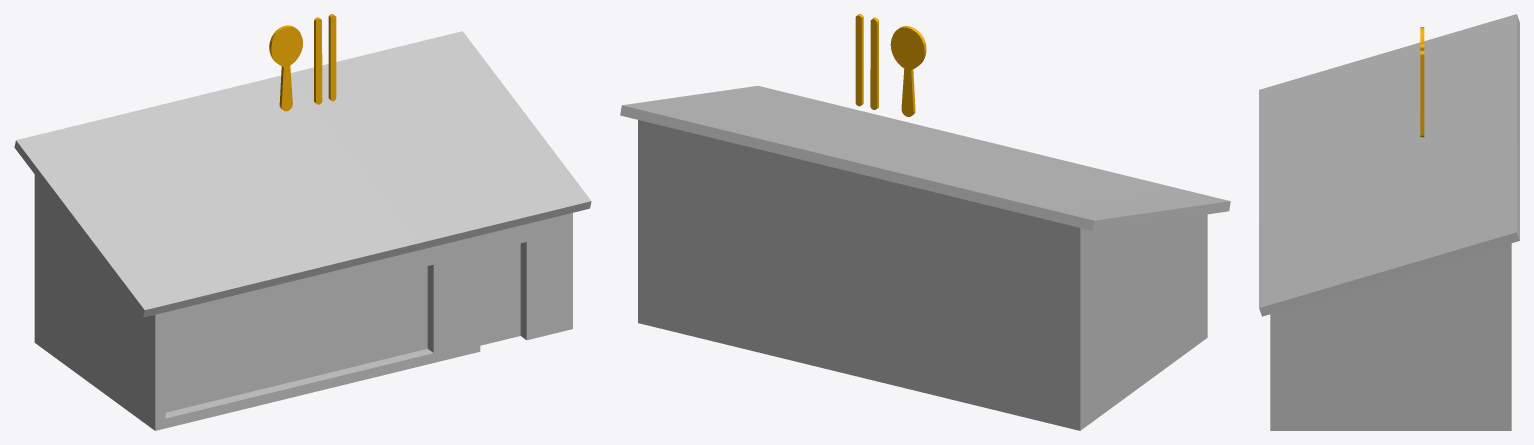
Rendered from 中餐厅.gltf.
3 views of the same model, side by side, from view 1: azimuth 30°, elevation 25°; view 2: azimuth 150°, elevation 25°; view 3: azimuth 270°, elevation 25° (orthographic). The views are drawn at different scales.
Parts seen in each view (by area): view 1: node_CornerShop_-1138, node_Mesh1_-1304; view 2: node_CornerShop_-1138, node_Mesh1_-1304; view 3: node_CornerShop_-1138, node_Mesh1_-1304.
Boxes of the visible parts, x1=… form: node_CornerShop_-1138: x1=14, y1=31, x2=591, y2=430; node_Mesh1_-1304: x1=269, y1=14, x2=336, y2=111; node_CornerShop_-1138: x1=620, y1=86, x2=1230, y2=430; node_Mesh1_-1304: x1=855, y1=14, x2=926, y2=116; node_CornerShop_-1138: x1=1259, y1=14, x2=1519, y2=430; node_Mesh1_-1304: x1=1420, y1=27, x2=1424, y2=137.
Bounding box in the file's own units: 8.55 × 5.47 × 4.32.
